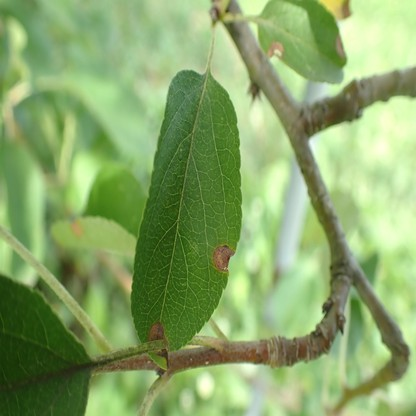frogeye_leaf_spot: (213, 246, 235, 273), (147, 321, 167, 340), (267, 41, 283, 59), (335, 32, 344, 58), (71, 220, 82, 237)
